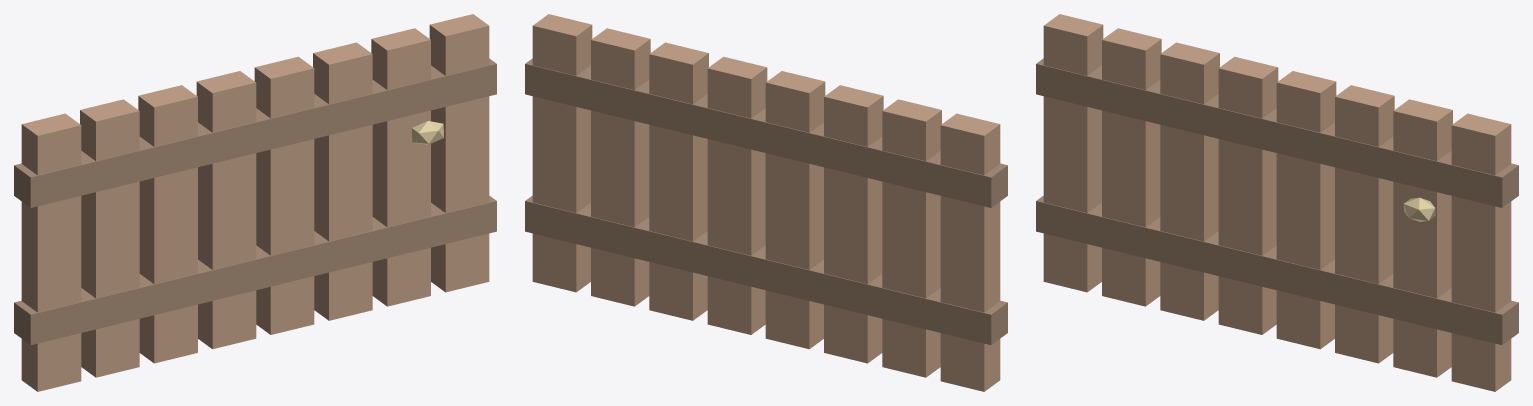
Rendered from garden_gate.fbx.
3 views of the same model, side by side, from view 1: azimuth 30°, elevation 25°; view 2: azimuth 150°, elevation 25°; view 3: azimuth 330°, elevation 25° (orthographic).
Parts seen in each view (by area): view 1: garden_gate_geometry; view 2: garden_gate_geometry; view 3: garden_gate_geometry.
Boxes of the visible parts, left/top/right/bottom form: garden_gate_geometry: left=14, top=14, right=496, bottom=391; garden_gate_geometry: left=525, top=14, right=1007, bottom=391; garden_gate_geometry: left=1036, top=14, right=1518, bottom=391.
Bounding box in the file's own units: 1.6 × 0.84 × 0.174.
